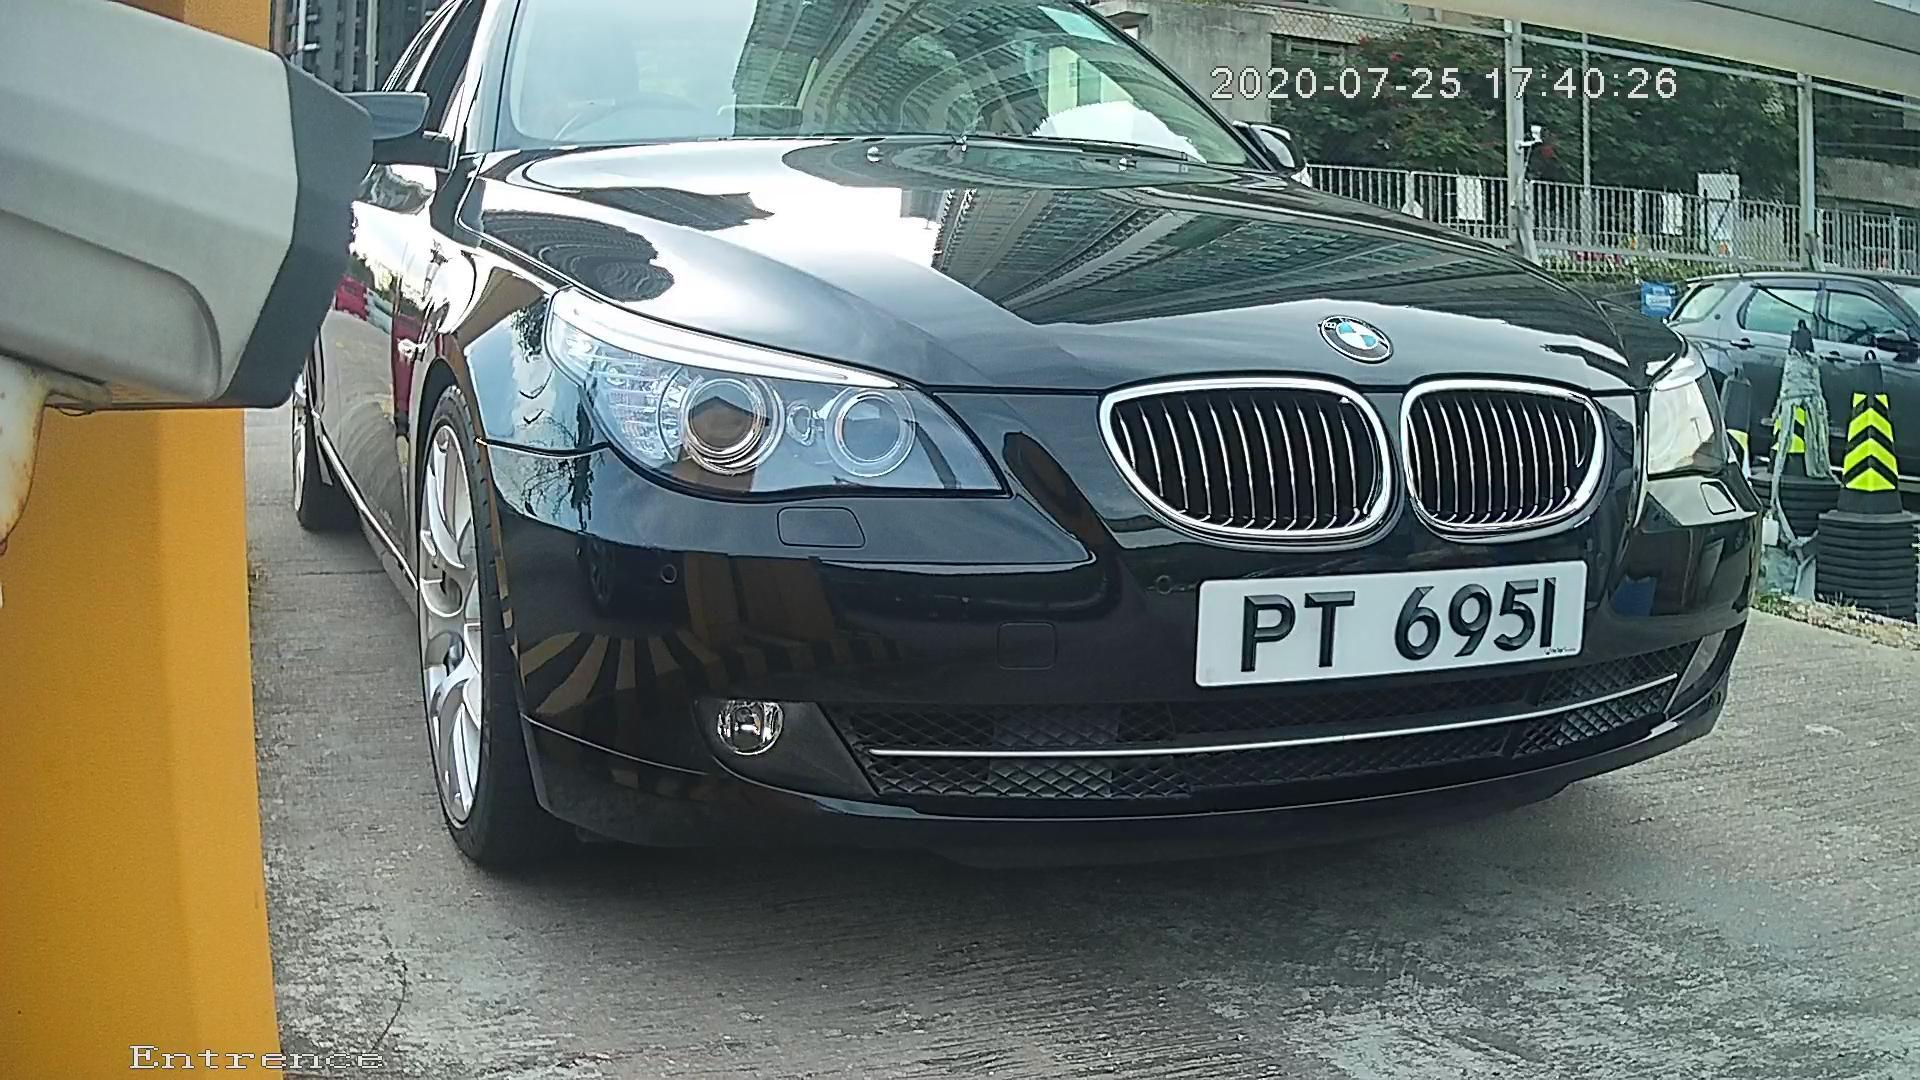privatecar: (284, 73, 1844, 878)
